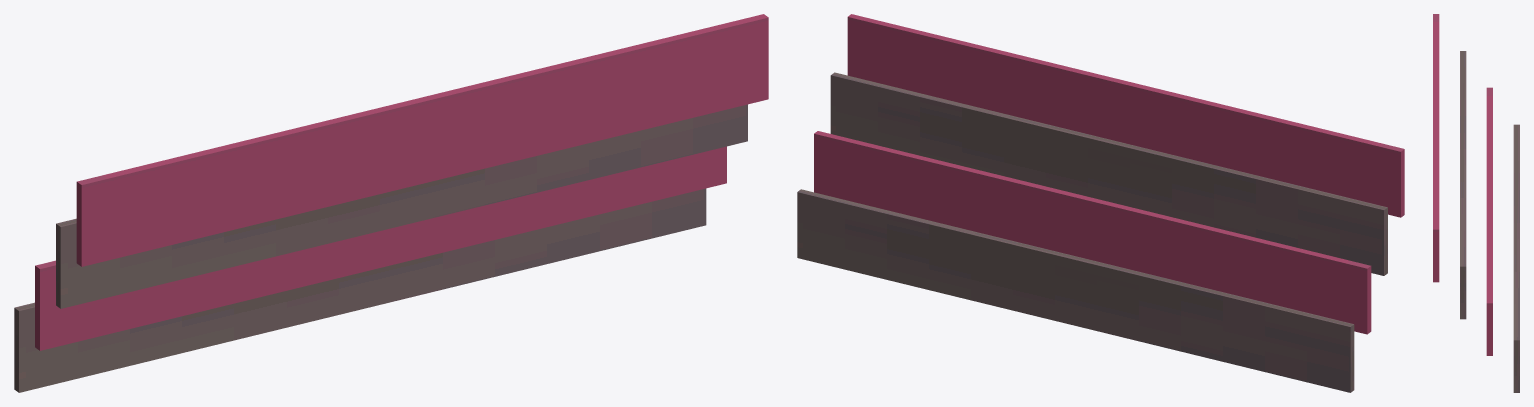
The model's file is 109_sportbench.gltf.
3 views of the same model, side by side, from view 1: azimuth 30°, elevation 25°; view 2: azimuth 150°, elevation 25°; view 3: azimuth 270°, elevation 25° (orthographic). The views are drawn at different scales.
Visible parts, largest first — view 1: sportbench; view 2: sportbench; view 3: sportbench.
Part boxes in pixels (x1,y1,x2,y2): sportbench: [14, 14, 768, 392]; sportbench: [797, 14, 1404, 392]; sportbench: [1433, 14, 1519, 392].
Bounding box in the file's own units: 13.38 × 4.72 × 2.27.
Materials: 1 (1 with a texture image).
